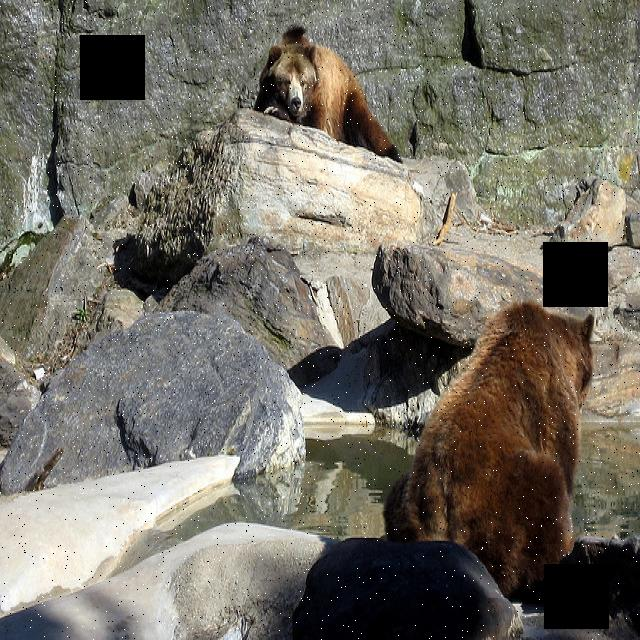Bear: (407, 292, 602, 584), (256, 25, 407, 158)
